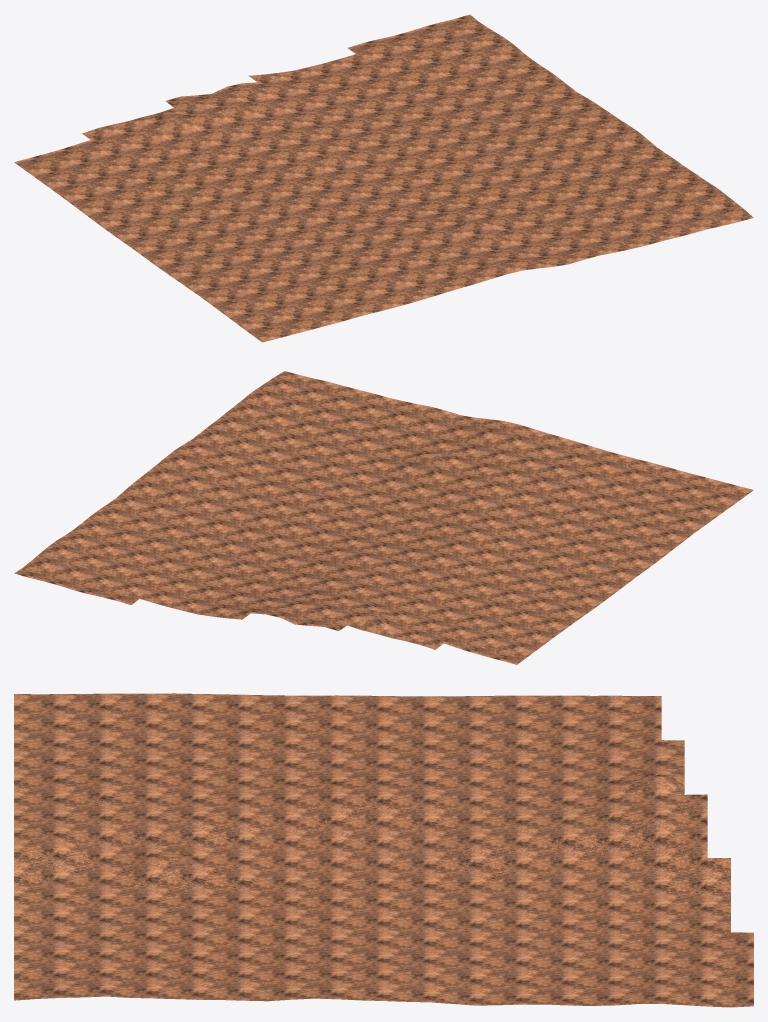
File: terrain_10_07.dae
3 views of the same model, one above another, from view 1: azimuth 30°, elevation 25°; view 2: azimuth 150°, elevation 25°; view 3: azimuth 270°, elevation 25° (orthographic). The views are drawn at different scales.
Parts seen in each view (by area): view 1: terrain_10_07-node; view 2: terrain_10_07-node; view 3: terrain_10_07-node.
Boxes of the visible parts, x1,y1,x2,y2 form: terrain_10_07-node: (14,14,753,342); terrain_10_07-node: (14,371,753,664); terrain_10_07-node: (14,693,753,1007).
Bounding box in the file's own units: 128 × 128 × 3.78.
Materials: 1 (1 with a texture image).
